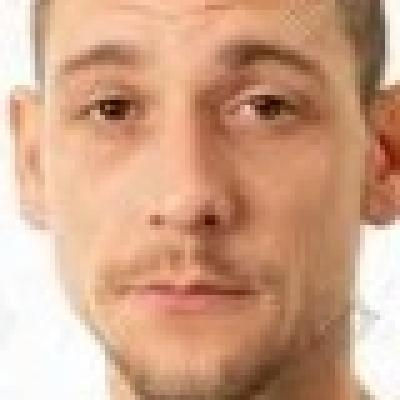netural: (44, 8, 360, 376)
